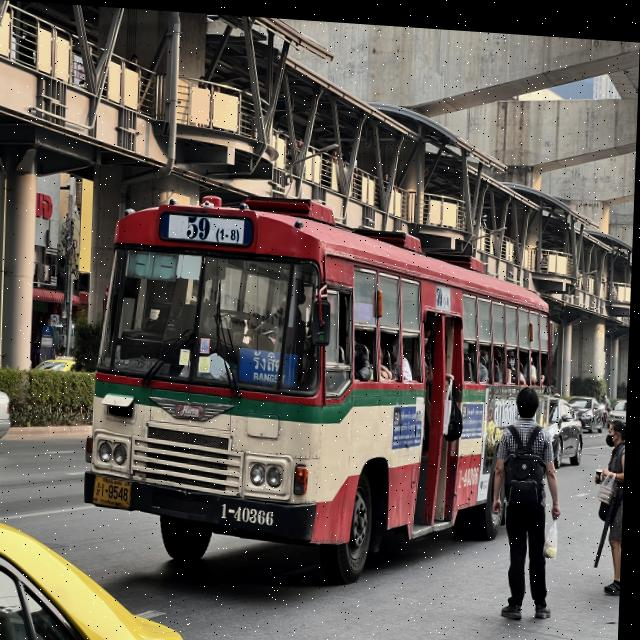BMTA-bus: (77, 170, 567, 592)
Bus-Line-Number: (181, 205, 244, 245)
Destination-Sign-Normal: (239, 344, 301, 386)
